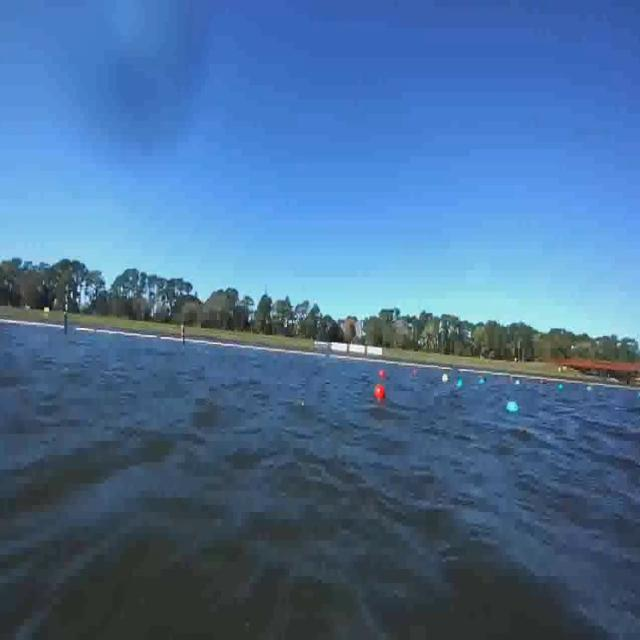green-buoy: (507, 401, 521, 415), (456, 379, 463, 390)
red-buoy: (376, 383, 386, 401), (380, 368, 384, 378)
yellow-buoy: (442, 372, 448, 386)
